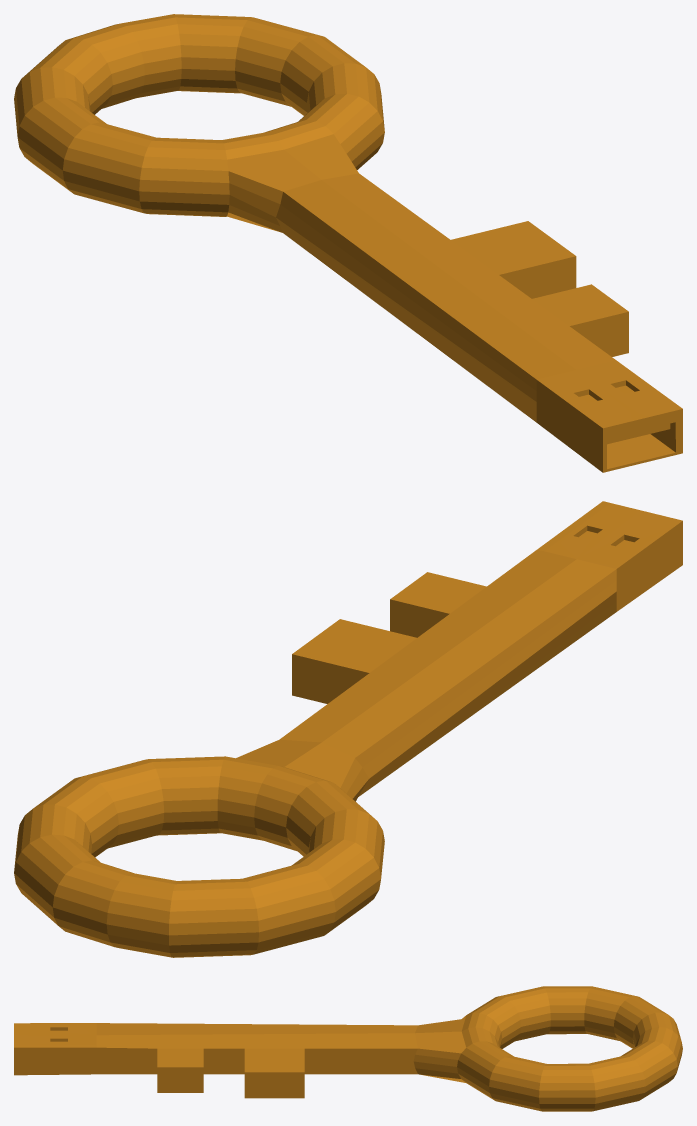
File: usb-key.obj
The picture shows the model from 3 angles, top to bottom: view 1: azimuth 30°, elevation 25°; view 2: azimuth 150°, elevation 25°; view 3: azimuth 270°, elevation 25°; orthographic projection. The views are drawn at different scales.
Visible parts, largest first — view 1: Torus.001; view 2: Torus.001; view 3: Torus.001.
Part boxes in pixels (bbox=[...]): Torus.001: bbox=[14, 14, 682, 472]; Torus.001: bbox=[14, 501, 682, 957]; Torus.001: bbox=[14, 986, 682, 1111].
Size of the model in its own units: 0.237 by 0.0507 by 0.6911.
